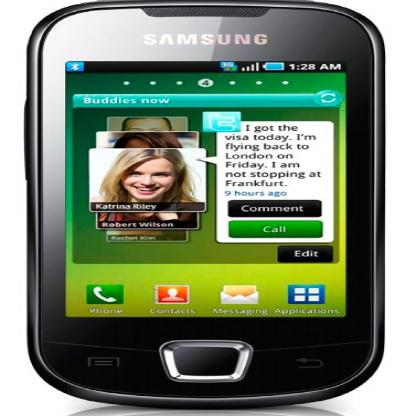SMARTPHONE: (23, 4, 382, 415)
